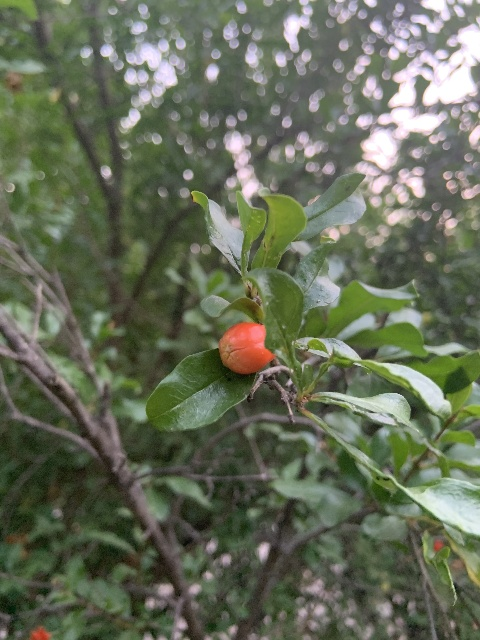bud: (218, 322, 276, 374)
